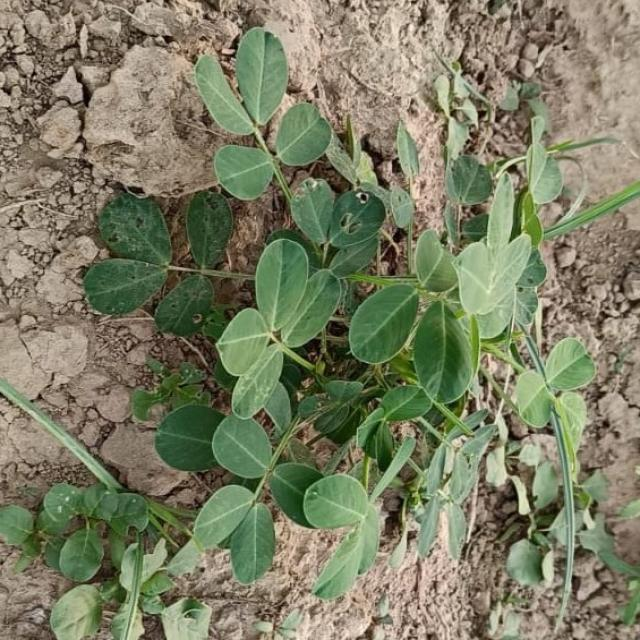plant: (0, 28, 640, 640)
